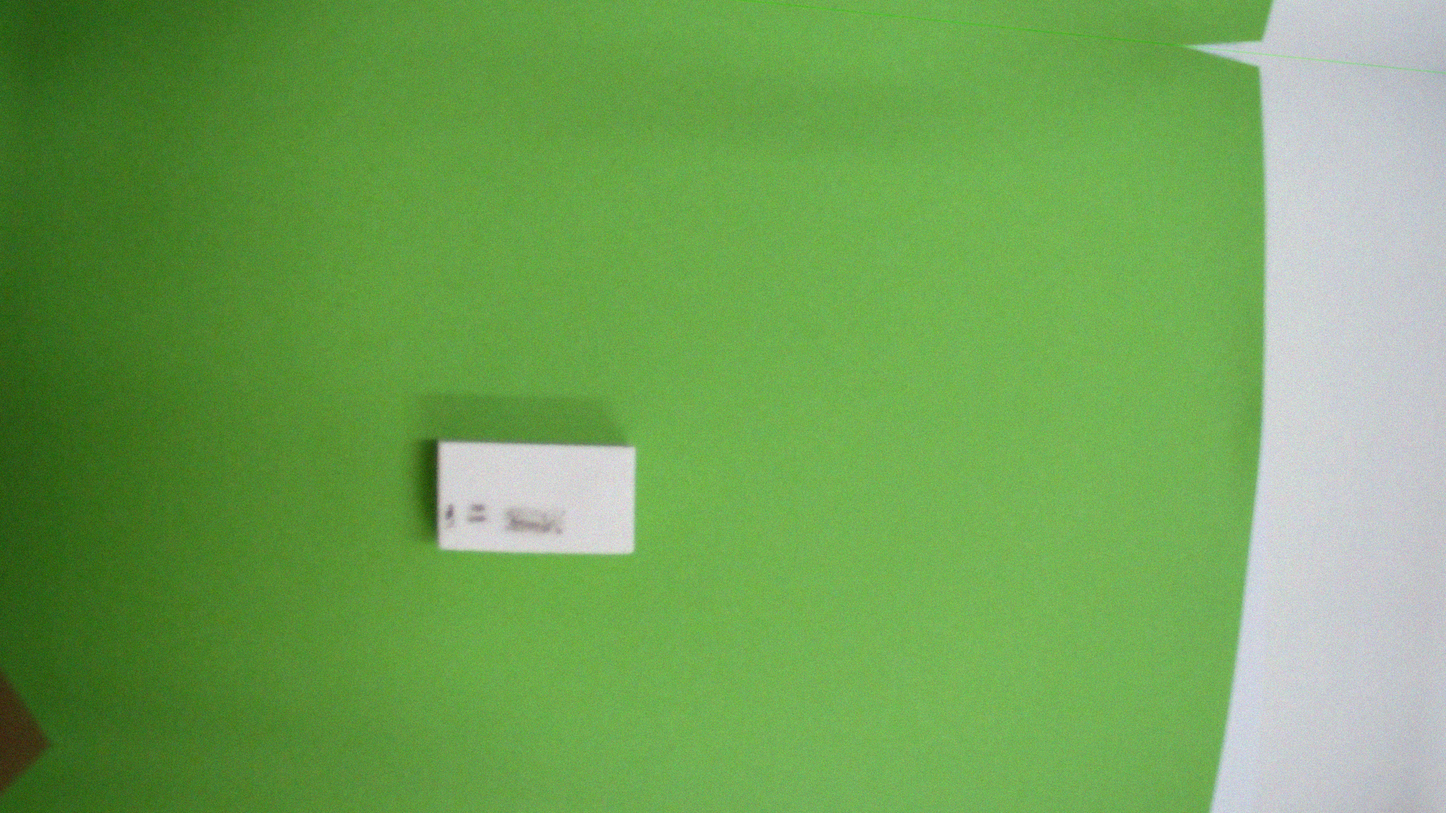gom: (422, 415, 646, 581)
